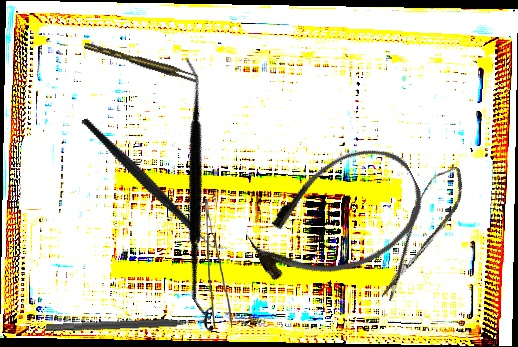Cannula: (234, 131, 439, 306)
Chopper: (80, 87, 229, 282)
Fixation Ring: (45, 305, 214, 342)
Micro Scissor: (366, 159, 475, 306)
Spatula Surgical: (80, 56, 315, 322)
Tissue Forceps: (83, 36, 199, 87), (204, 198, 233, 329)
